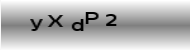2: (104, 13, 117, 26)
P: (84, 10, 99, 25)
X: (46, 13, 64, 28)
d: (70, 18, 85, 32)
y: (28, 18, 44, 32)
